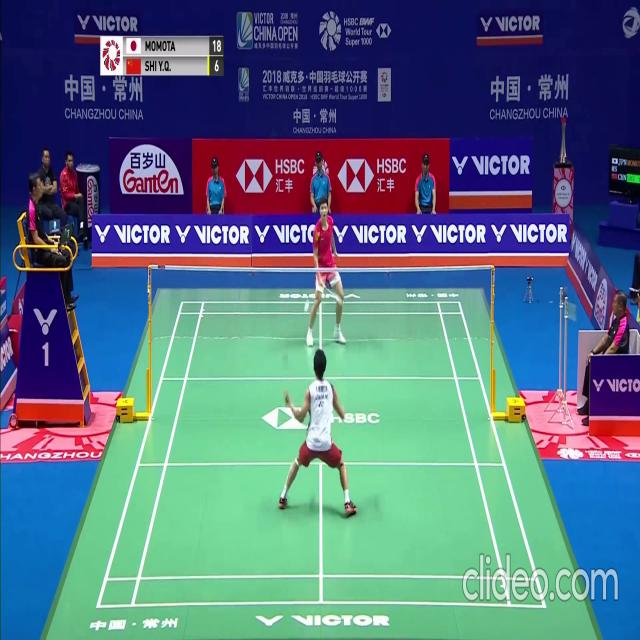Shuttlecock: (305, 302, 309, 310)
